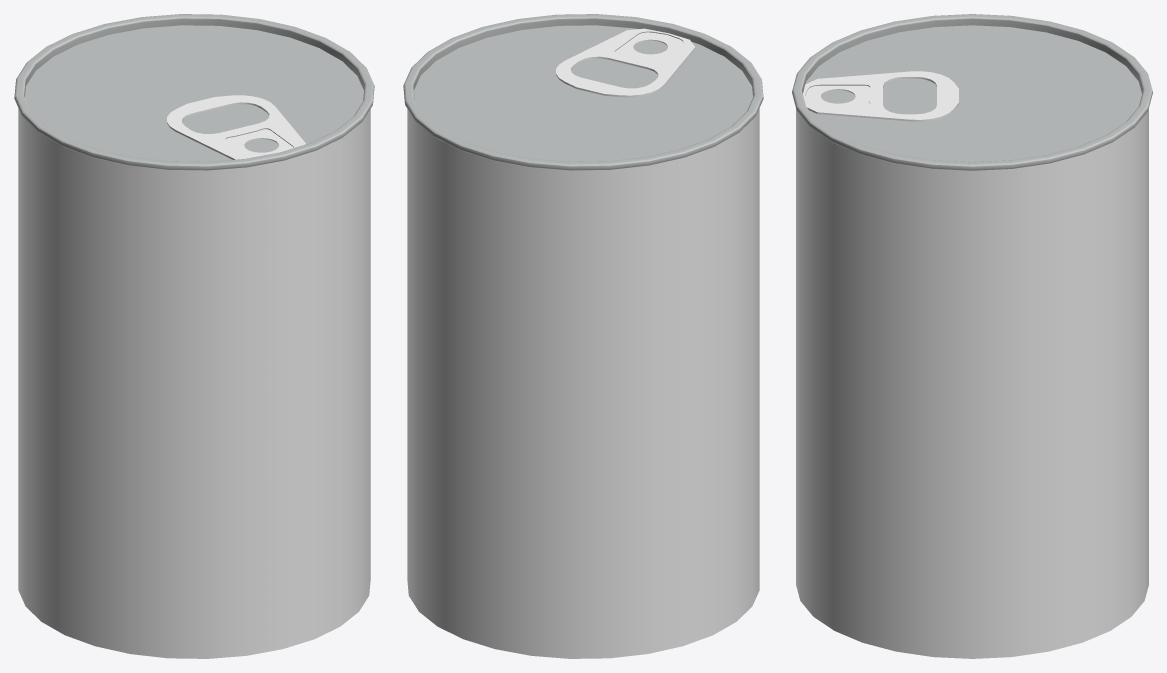
Rendered from CannedFood.fbx.
3 renders of one model, left to right at view 1: azimuth 30°, elevation 25°; view 2: azimuth 150°, elevation 25°; view 3: azimuth 270°, elevation 25°, orthographic.
Visible parts, largest first — view 1: polySurface5; view 2: polySurface5; view 3: polySurface5.
Part boxes in pixels (x1,y1,x2,y2): polySurface5: (14, 14, 374, 658); polySurface5: (403, 14, 763, 658); polySurface5: (792, 14, 1152, 658).
Size of the model in its own units: 6.68 by 10.11 by 6.68.
Materials: 1 (1 with a texture image).
